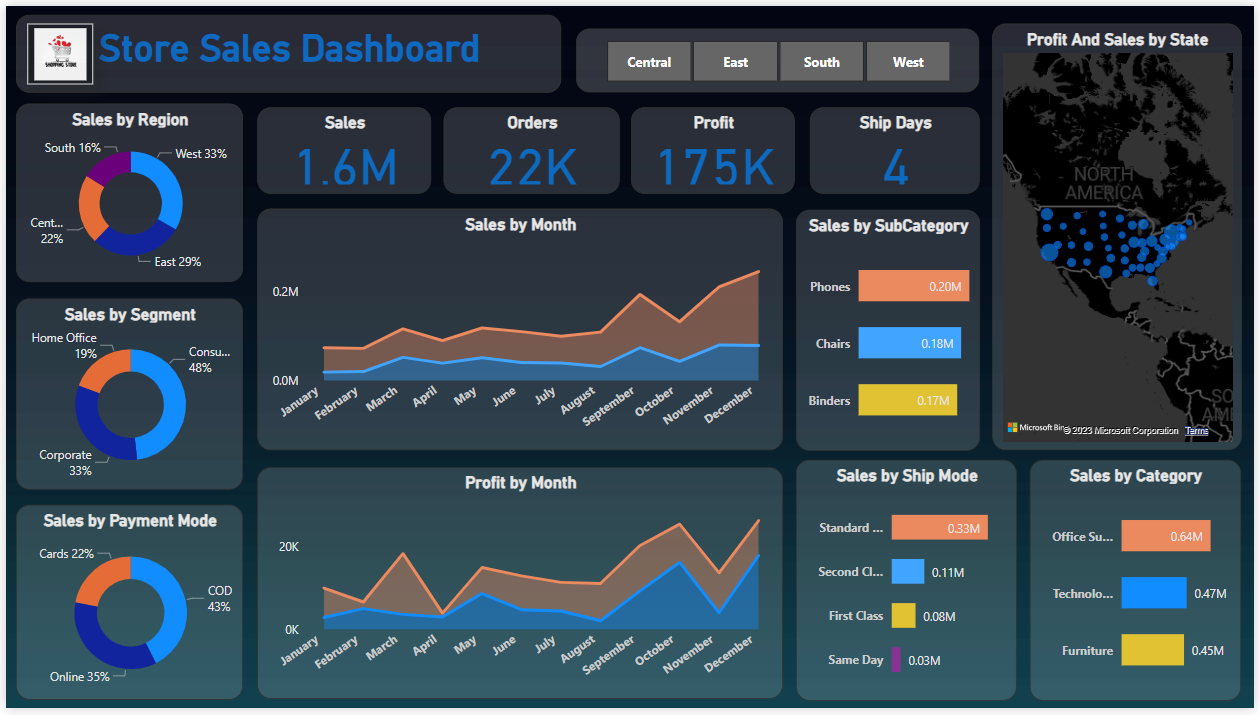

What the dashboard file says about the page in this screenshot:
{"tool":"powerbi","page":{"name":"Page 1","canvas":[1280,720],"ordinal":0},"visuals":[{"type":"barChart","title":"Sales by Category","fields":{"Category":["SuperStore_Sales_Dataset.Category"],"Y":["Sum(SuperStore_Sales_Dataset.Sales)"]},"box":[1050.6,465.8,216.5,246.8],"z":0},{"type":"barChart","title":"Sales by SubCategory","fields":{"Category":["SuperStore_Sales_Dataset.Sub-Category"],"Y":["Sum(SuperStore_Sales_Dataset.Sales)"]},"box":[810.1,208.9,188.6,246.8],"z":1000},{"type":"barChart","title":"Sales by Ship Mode","fields":{"Category":["SuperStore_Sales_Dataset.Ship Mode"],"Y":["Sum(SuperStore_Sales_Dataset.Sales)"]},"box":[810.1,465.8,226.6,246.8],"z":2000},{"type":"stackedAreaChart","title":"Sales by Month","fields":{"Y":["Sum(SuperStore_Sales_Dataset.Sales)"],"Category":["SuperStore_Sales_Dataset.Order Date.Variation.Date Hierarchy.Month"],"Series":["SuperStore_Sales_Dataset.Order Date.Variation.Date Hierarchy.Year"]},"box":[258.2,207.6,539.2,248.1],"z":3000},{"type":"stackedAreaChart","title":"Profit by Month","fields":{"Category":["SuperStore_Sales_Dataset.Order Date.Variation.Date Hierarchy.Month","SuperStore_Sales_Dataset.Order Date.Variation.Date Hierarchy.Day"],"Series":["SuperStore_Sales_Dataset.Order Date.Variation.Date Hierarchy.Year"],"Y":["Sum(SuperStore_Sales_Dataset.Profit)"]},"box":[258.2,473.4,539.2,238],"z":4000},{"type":"map","title":"Profit And Sales  by State","fields":{"Category":["SuperStore_Sales_Dataset.State"],"Size":["Sum(SuperStore_Sales_Dataset.Sales)"]},"box":[1011.4,17.7,255.7,438],"z":5000},{"type":"donutChart","title":"Sales by Segment","fields":{"Category":["SuperStore_Sales_Dataset.Segment"],"Y":["Sum(SuperStore_Sales_Dataset.Sales)"]},"box":[10.1,300,232.9,196.2],"z":6000},{"type":"donutChart","title":"Sales by Payment Mode","fields":{"Category":["SuperStore_Sales_Dataset.Payment Mode"],"Y":["Sum(SuperStore_Sales_Dataset.Sales)"]},"box":[10.1,511.4,232.9,200],"z":7000},{"type":"slicer","fields":{"Values":["SuperStore_Sales_Dataset.Region"]},"box":[584.8,22.8,413.9,65.8],"z":8000},{"type":"textbox","box":[10.1,8.9,559.5,79.7],"z":9000},{"type":"card","title":"Sales","fields":{"Values":["Sum(SuperStore_Sales_Dataset.Sales)"]},"box":[258.2,103.8,178.5,88.6],"z":10000},{"type":"card","title":"Profit","fields":{"Values":["Sum(SuperStore_Sales_Dataset.Profit)"]},"box":[640.5,103.8,168.4,88.6],"z":11000},{"type":"card","title":"Orders","fields":{"Values":["Sum(SuperStore_Sales_Dataset.Quantity)"]},"box":[448.1,103.8,181,88.6],"z":12000},{"type":"card","title":"Ship Days","fields":{"Values":["Avg(SuperStore_Sales_Dataset.AvgDelivery)"]},"box":[824.1,103.8,174.7,88.6],"z":13000},{"type":"donutChart","title":"Sales by Region","fields":{"Y":["Sum(SuperStore_Sales_Dataset.Sales)"],"Category":["SuperStore_Sales_Dataset.Region"]},"box":[10.1,100,232.9,183.5],"z":14000},{"type":"image","box":[21.5,17.7,68.4,63.3],"z":15000}]}

Visuals, with their boxes in screenshot pixels (x1, y1, x2, y2), scaled from the page's 1280x720 canvas onto the 1260x715 screenshot:
"Sales by Category" barChart: box(1034, 463, 1247, 708)
"Sales by SubCategory" barChart: box(797, 207, 983, 453)
"Sales by Ship Mode" barChart: box(797, 463, 1021, 708)
"Sales by Month" stackedAreaChart: box(254, 206, 785, 453)
"Profit by Month" stackedAreaChart: box(254, 470, 785, 706)
"Profit And Sales  by State" map: box(996, 18, 1247, 453)
"Sales by Segment" donutChart: box(10, 298, 239, 493)
"Sales by Payment Mode" donutChart: box(10, 508, 239, 706)
slicer - SuperStore_Sales_Dataset.Region: box(576, 23, 983, 88)
textbox: box(10, 9, 561, 88)
"Sales" card: box(254, 103, 430, 191)
"Profit" card: box(630, 103, 796, 191)
"Orders" card: box(441, 103, 619, 191)
"Ship Days" card: box(811, 103, 983, 191)
"Sales by Region" donutChart: box(10, 99, 239, 282)
image: box(21, 18, 88, 80)
